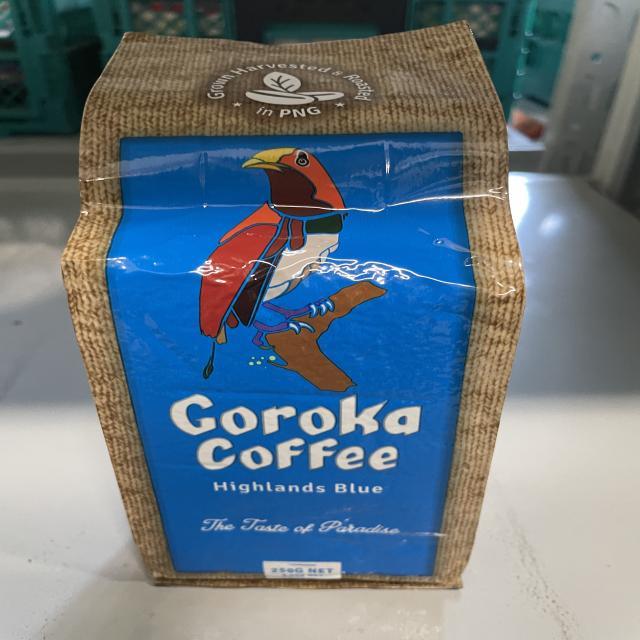object_name: (83, 39, 471, 593)
